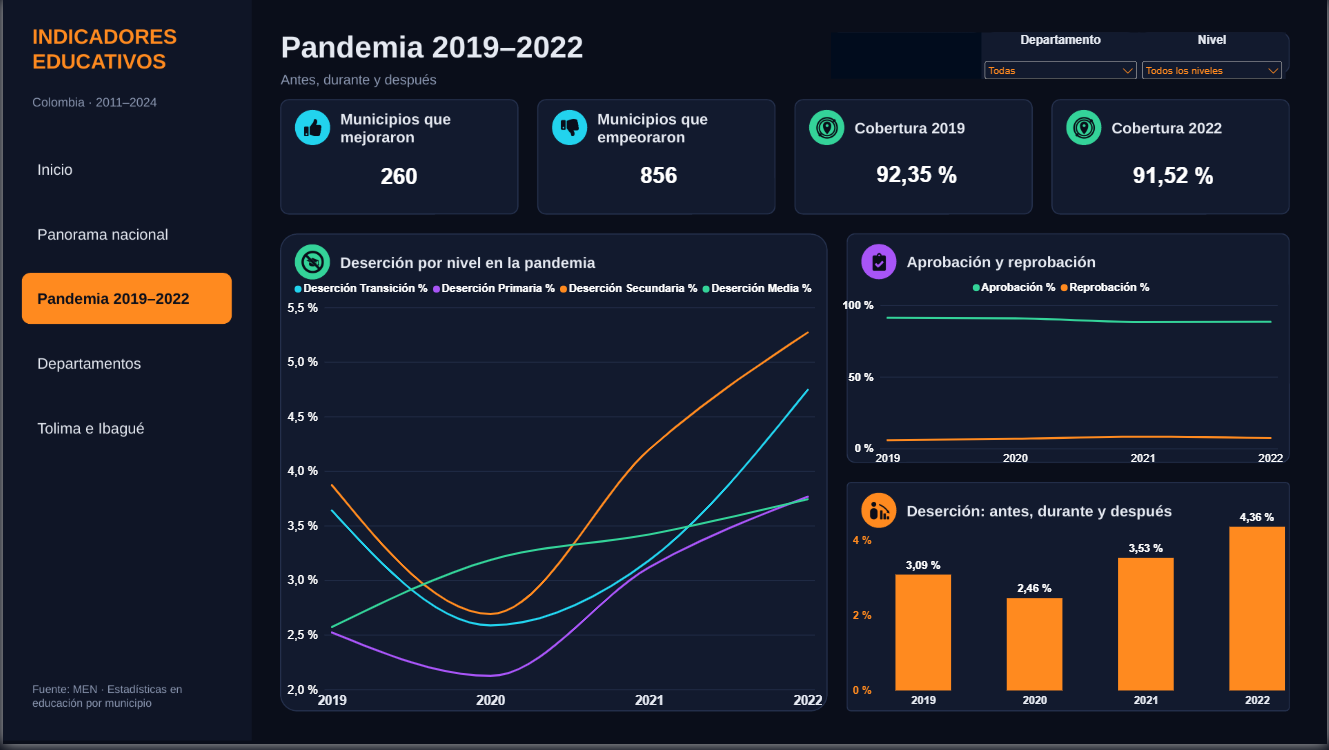

What the dashboard file says about the page in this screenshot:
{"tool":"powerbi","page":{"name":"Pandemia 2019-2022","canvas":[1920,1080],"ordinal":2},"visuals":[{"type":"slicer","title":"Nivel","fields":{"Values":["Niveles.Nivel"]},"box":[1646.4,50.3,213.3,67.1],"z":0},{"type":"slicer","title":"Departamento","fields":{"Values":["Datos.DEPARTAMENTO"]},"box":[1417.3,50,230.8,67.3],"z":2000},{"type":"actionButton","box":[32.5,195,307.5,90],"z":3000},{"type":"actionButton","box":[26.1,308.7,306.5,78.3],"z":4000},{"type":"actionButton","box":[26.1,480.4,306.5,82.6],"z":5000},{"type":"actionButton","box":[26.1,578.3,306.5,97.8],"z":6000},{"type":"cardVisual","fields":{"Data":["Datos.Municipios que mejoraron"]},"box":[419.4,213.3,309.1,91.1],"z":6001},{"type":"cardVisual","fields":{"Data":["Datos.Municipios que empeoraron"]},"box":[860.3,198.9,179.7,119.8],"z":6002},{"type":"cardVisual","fields":{"Data":["Datos.Cobertura 2019 %"]},"box":[1251,191.7,167.8,127],"z":6003},{"type":"cardVisual","fields":{"Data":["Datos.Cobertura 2022 %"]},"box":[1622.4,198.9,170.2,119.8],"z":6004},{"type":"clusteredColumnChart","fields":{"Category":["Datos.AÑO"],"Y":["Datos.Deserción T %"]},"box":[1215,709.4,683,337.9],"z":6005},{"type":"lineChart","fields":{"Category":["Datos.AÑO"],"Y":["Datos.Aprobación %","Datos.Reprobación %"]},"box":[1200.6,388.2,671,306.8],"z":6006},{"type":"lineChart","fields":{"Category":["Datos.AÑO"],"Y":["Datos.Deserción Transición %","Datos.Deserción Primaria %","Datos.Deserción Secundaria %","Datos.Deserción Media %"]},"box":[395.4,390.6,807.6,656.6],"z":6007},{"type":"shape","box":[1200.6,50.3,218.1,67.1],"z":6008}]}

Visuals, with their boxes on the page's 1920x1080 design canvas (x1, y1, x2, y2). These are canvas units, not pixel positions in the 1329x750 screenshot, which may show the page scaled, cropped or inside an application window:
"Nivel" slicer: box=[1646, 50, 1860, 117]
"Departamento" slicer: box=[1417, 50, 1648, 117]
actionButton: box=[32, 195, 340, 285]
actionButton: box=[26, 309, 333, 387]
actionButton: box=[26, 480, 333, 563]
actionButton: box=[26, 578, 333, 676]
cardVisual - Datos.Municipios que mejoraron: box=[419, 213, 728, 304]
cardVisual - Datos.Municipios que empeoraron: box=[860, 199, 1040, 319]
cardVisual - Datos.Cobertura 2019 %: box=[1251, 192, 1419, 319]
cardVisual - Datos.Cobertura 2022 %: box=[1622, 199, 1793, 319]
clusteredColumnChart - Datos.AÑO x Datos.Deserción T %: box=[1215, 709, 1898, 1047]
lineChart - Datos.AÑO x Datos.Aprobación %: box=[1201, 388, 1872, 695]
lineChart - Datos.AÑO x Datos.Deserción Transición %: box=[395, 391, 1203, 1047]
shape: box=[1201, 50, 1419, 117]
